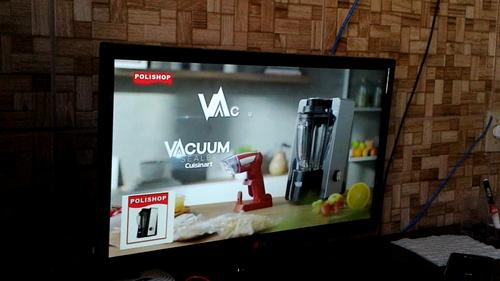Polishop #1: (120, 191, 176, 250)
